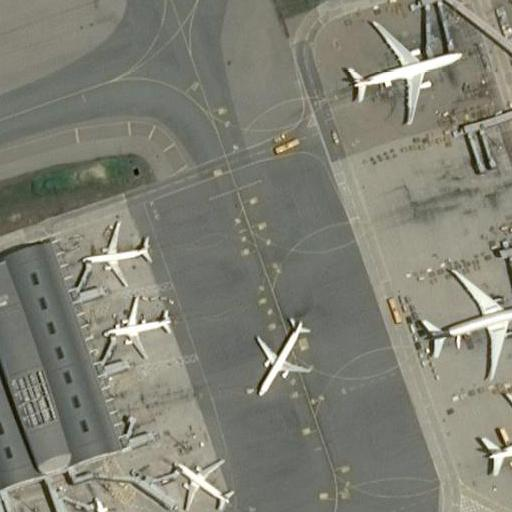Aircraft: (331, 5, 468, 127), (338, 16, 465, 125), (406, 251, 512, 378), (413, 264, 512, 375), (71, 208, 160, 287), (238, 309, 313, 400), (245, 308, 316, 398), (90, 288, 177, 356), (157, 446, 240, 512), (468, 382, 512, 501), (76, 219, 153, 285), (99, 295, 176, 356), (253, 313, 310, 395), (166, 449, 235, 512), (473, 389, 512, 498), (65, 488, 139, 512), (71, 492, 137, 512)
